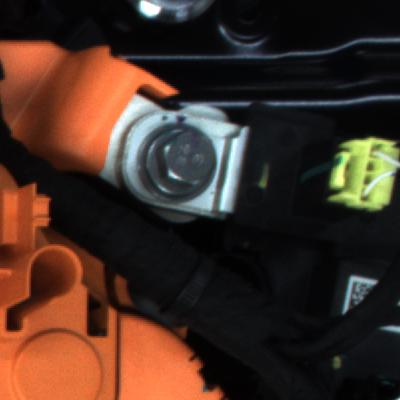nut_b: (125, 117, 227, 207)
